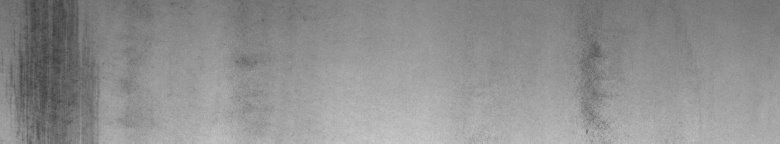ka: (4, 4, 128, 136)
